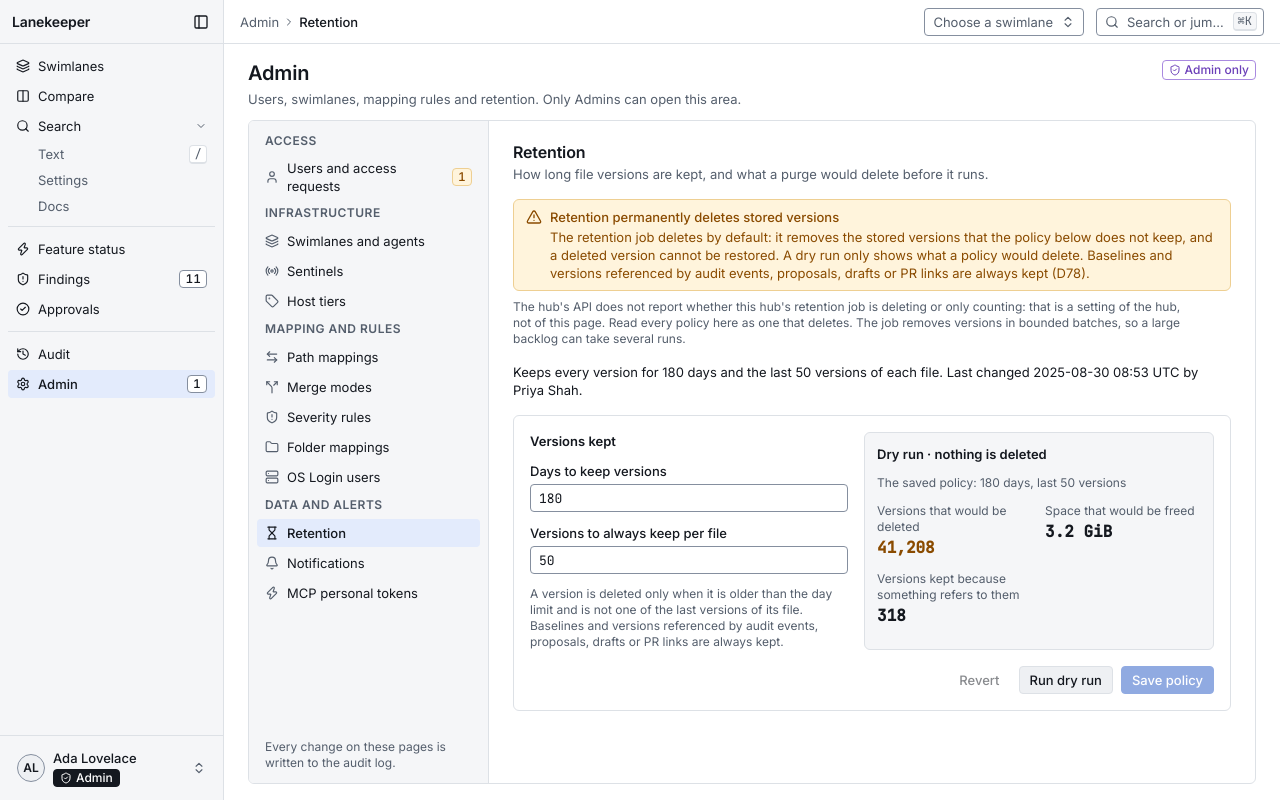
Scenario: the dry run › refuses values that are not a policy, says which, and asks the hub for nothing
Expected: the heading "Admin" is shown, x1=248 y1=61 x2=309 y2=85
Replace the text in the field labelled "Days to keep versions" with "14": (689, 498) x1=530 y1=484 x2=848 y2=512
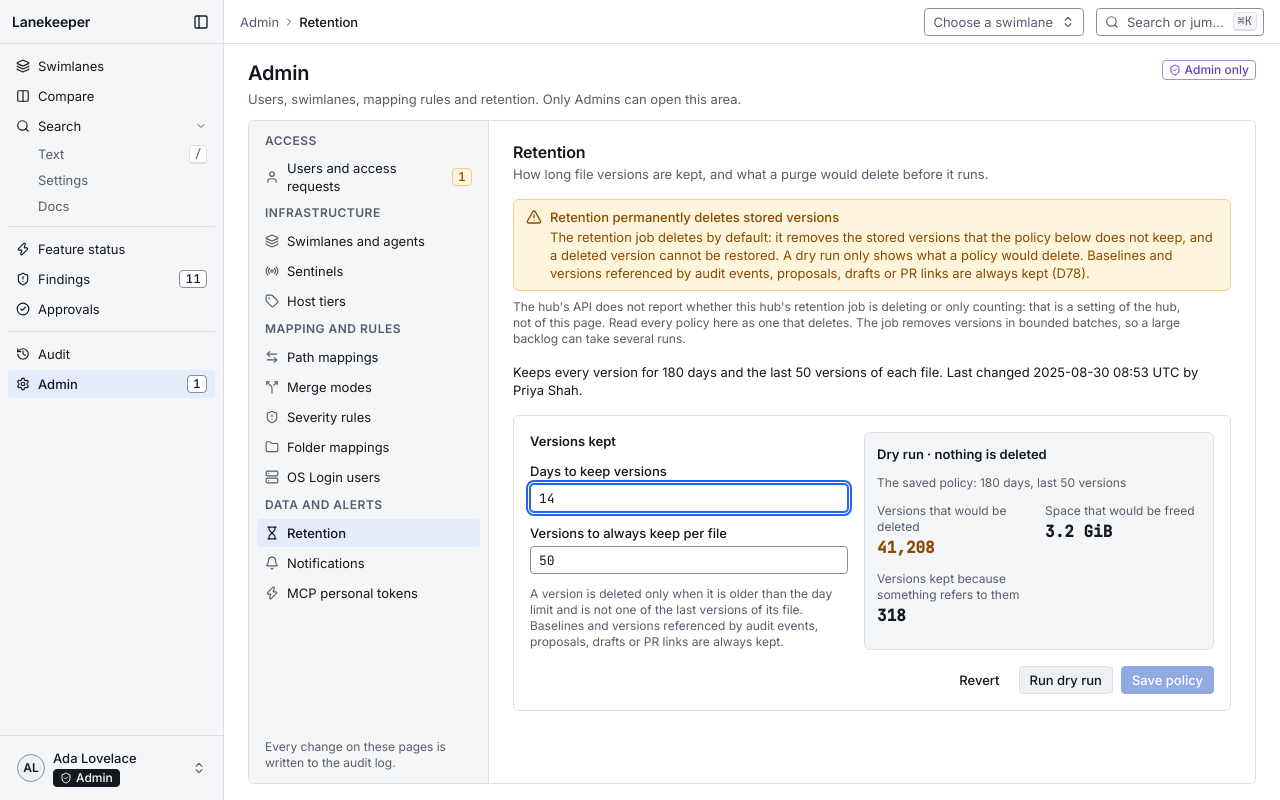
Replace the text in the field labelled "Versions to always keep per file" with "2": (689, 560) x1=530 y1=546 x2=848 y2=574
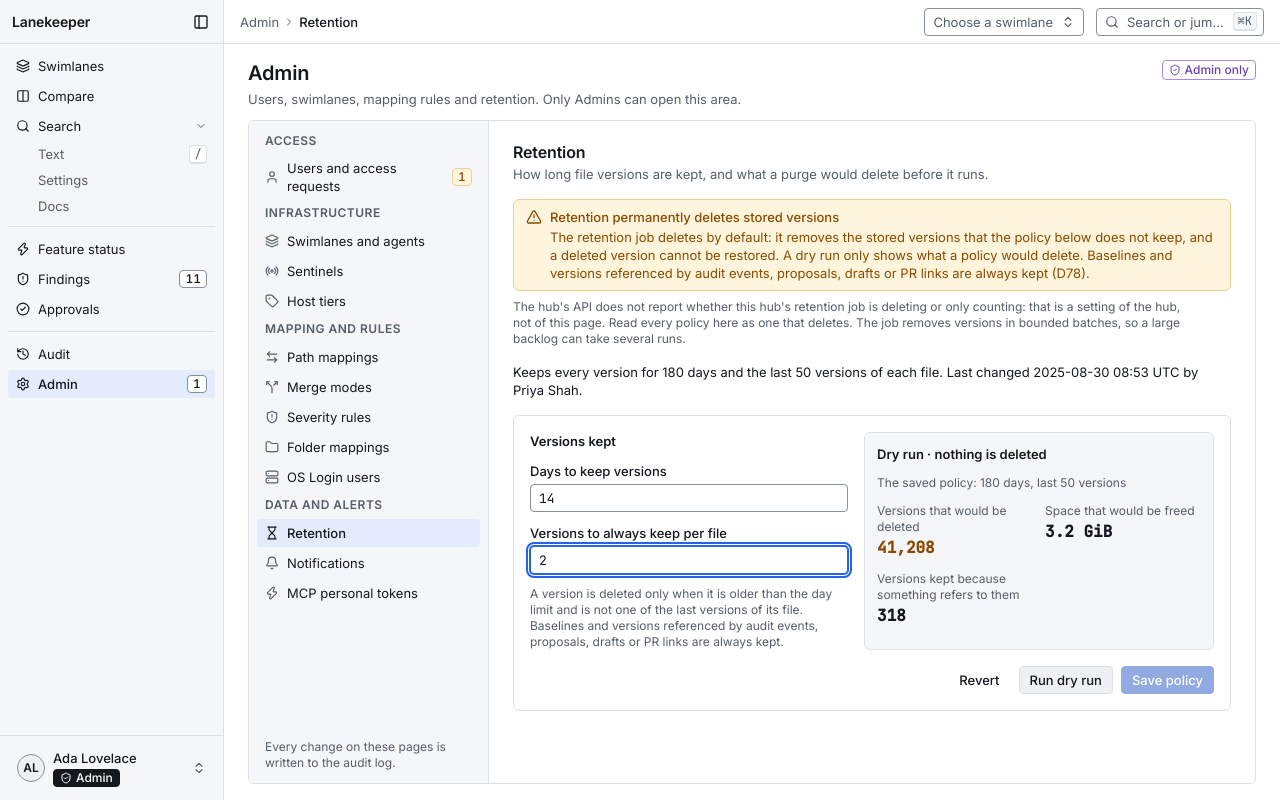
Click the button "Run dry run": (1066, 680) x1=1018 y1=666 x2=1113 y2=694
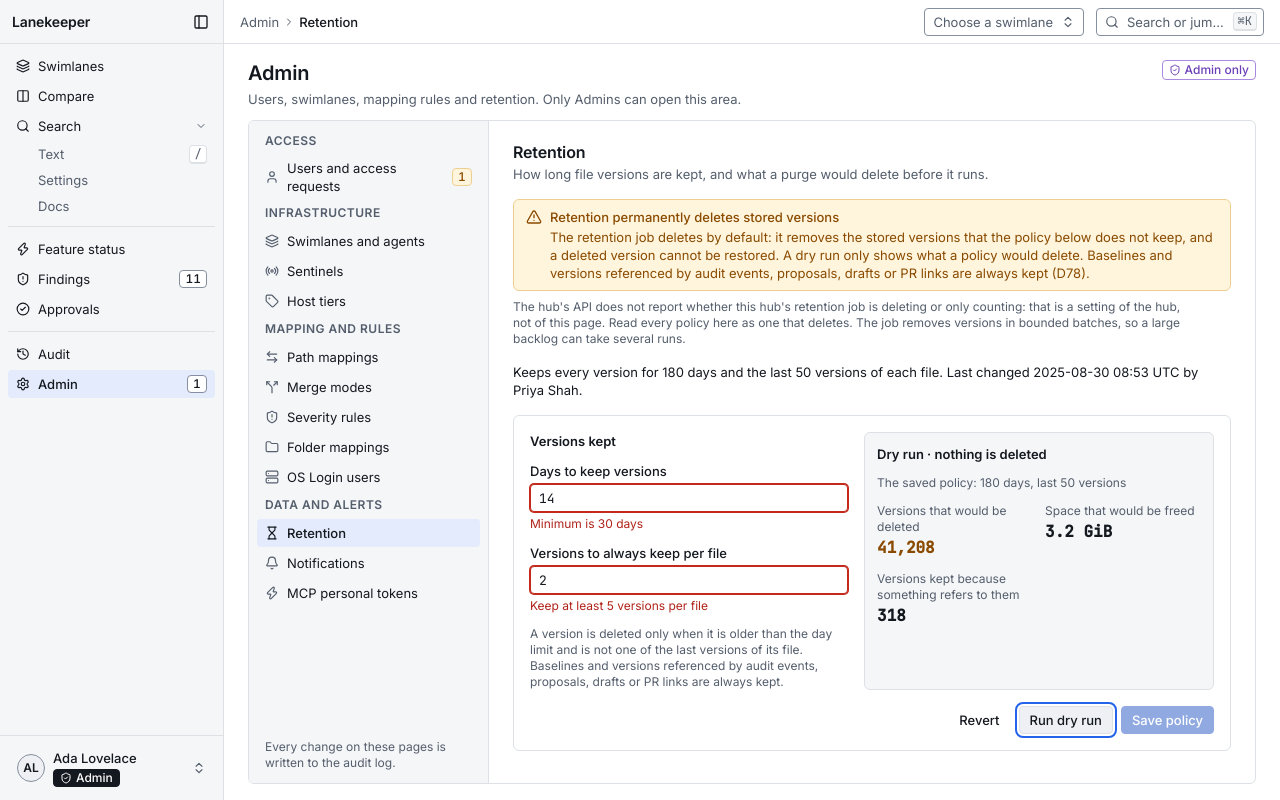
Now the text "Minimum is 30 days" is shown, box x1=530 y1=516 x2=643 y2=531
Now the text "Keep at least 5 versions per file" is shown, box x1=530 y1=598 x2=708 y2=613
